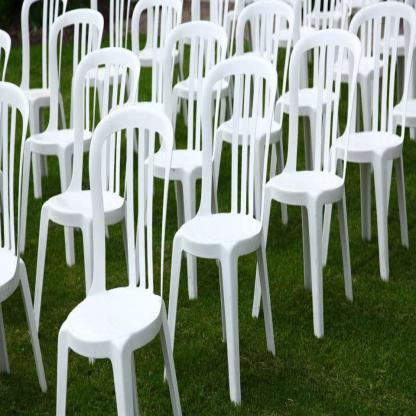chair: (56, 105, 186, 416)
